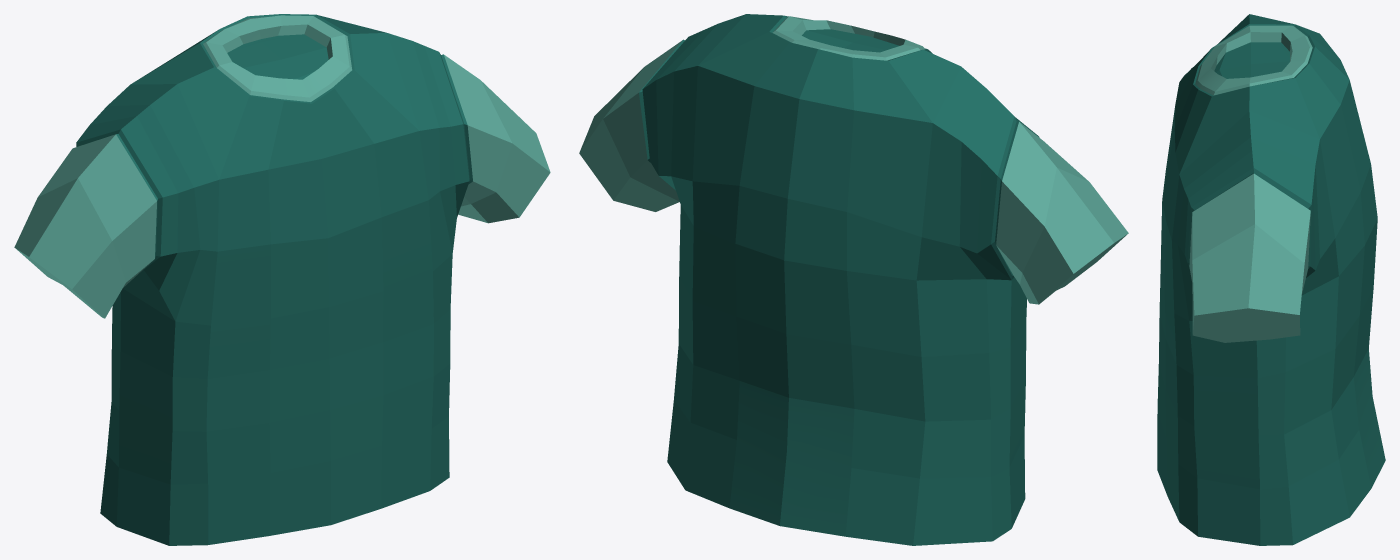
File: 0708)playerA_man_shirt.fbx
The picture shows the model from 3 angles, left to right: view 1: azimuth 30°, elevation 25°; view 2: azimuth 150°, elevation 25°; view 3: azimuth 270°, elevation 25°; orthographic projection. The views are drawn at different scales.
Parts seen in each view (by area): view 1: shirt; view 2: shirt; view 3: shirt.
Boxes of the visible parts, x1,y1,x2,y2 form: shirt: [14, 14, 550, 545]; shirt: [579, 14, 1128, 545]; shirt: [1157, 14, 1385, 545].
Size of the model in its own units: 151 by 128 by 62.43.
